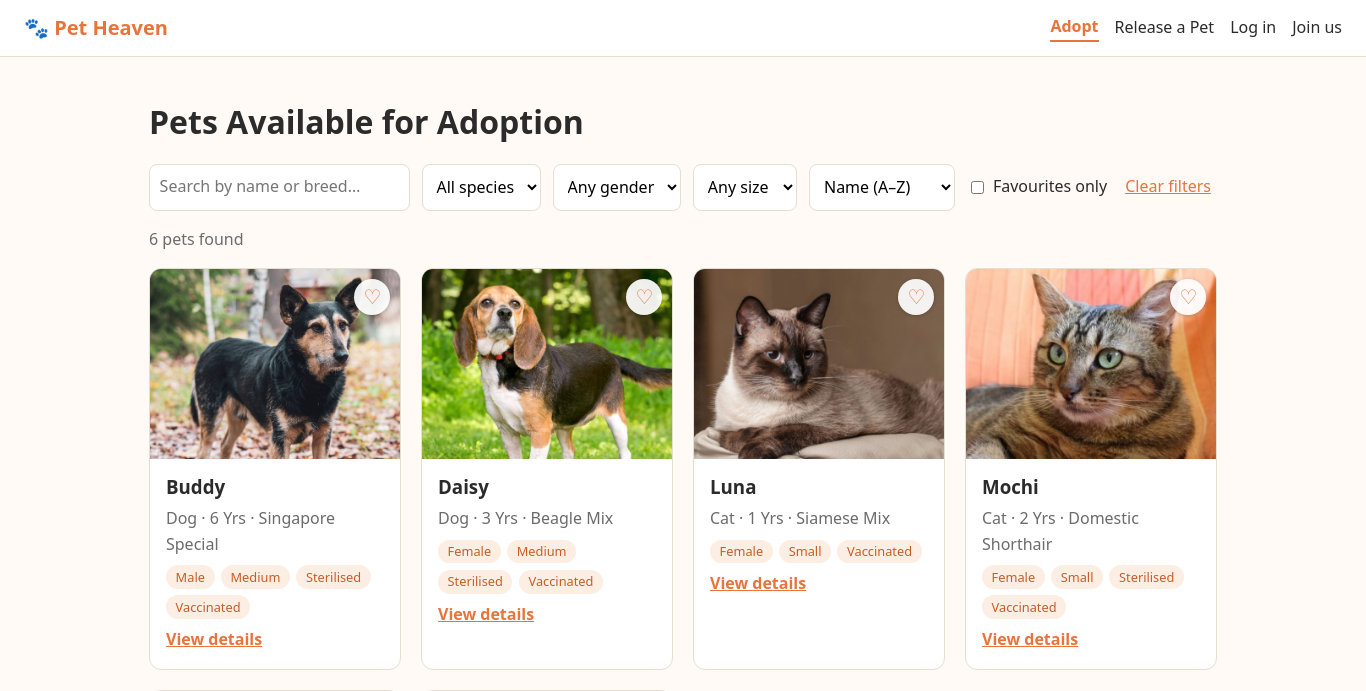
Browsing pets › narrows the list when searching by name
In the search field named "Search pets": (279, 187) [149,164,410,211], type "mochi"
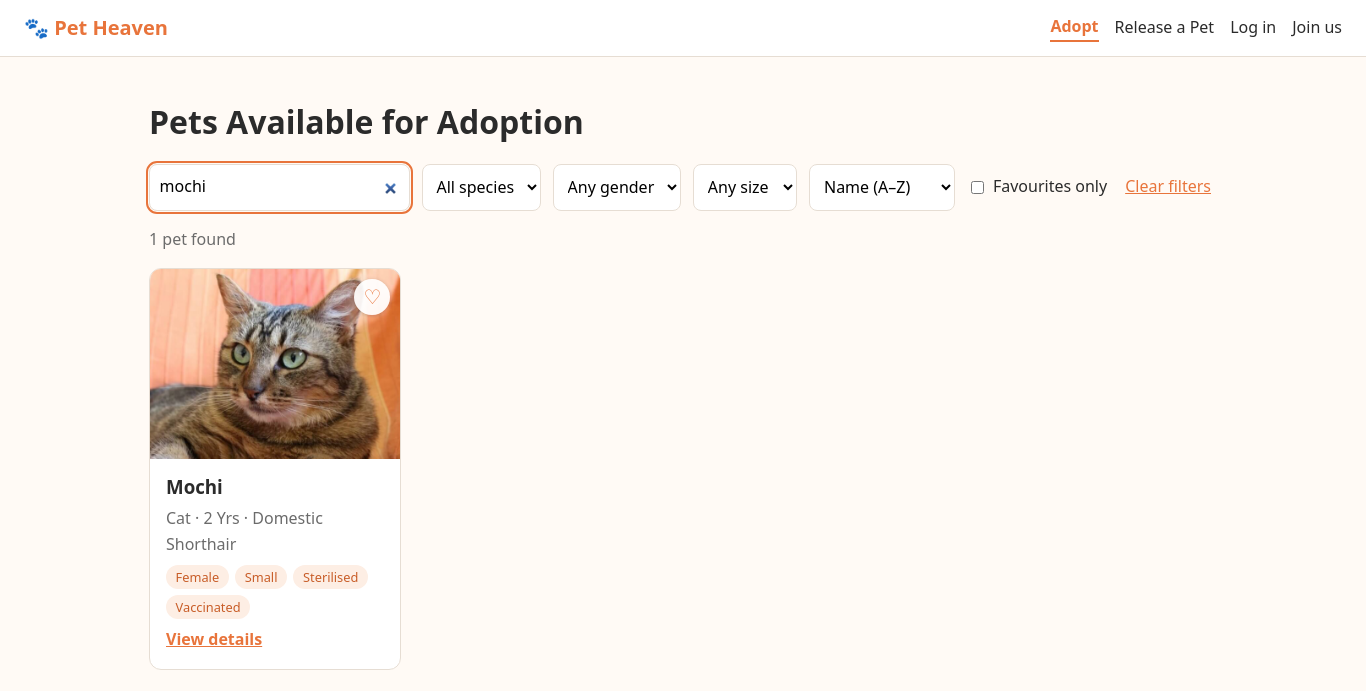
Expected: the heading "Mochi" is shown, [166,474,223,499]
Now the text "1 pet found" is shown, box [149,228,236,250]
